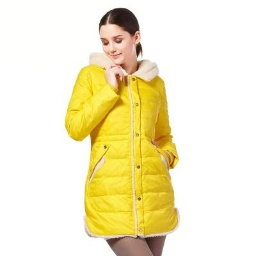face: (97, 7, 147, 69)
